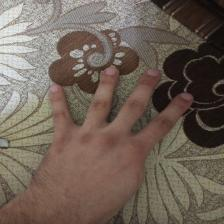four: (35, 63, 191, 218)
